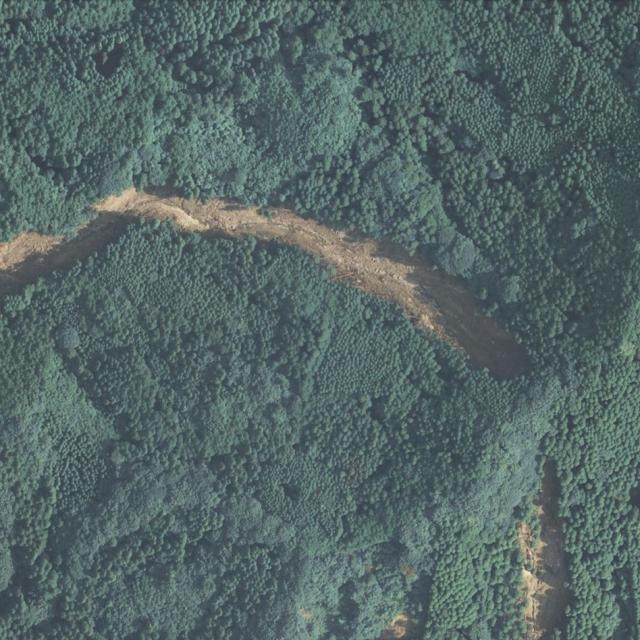landslide: (0, 187, 532, 379)
